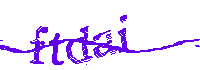a: (92, 27, 116, 58)
d: (66, 24, 92, 65)
f: (30, 26, 48, 65)
i: (117, 15, 132, 54)
t: (48, 32, 66, 68)
